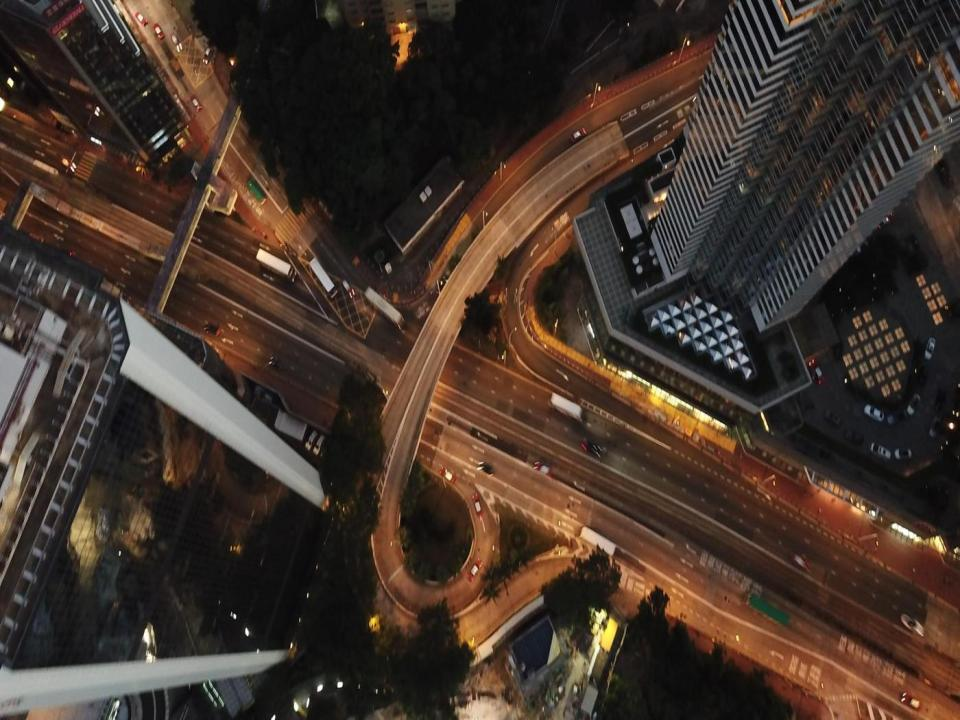bus: (742, 592, 789, 631), (578, 526, 616, 556), (547, 392, 583, 419)
car: (364, 286, 404, 330), (255, 248, 298, 282), (310, 257, 338, 297), (934, 154, 954, 188), (900, 613, 925, 637), (809, 359, 826, 385), (793, 553, 811, 574), (863, 404, 884, 422), (467, 558, 483, 581), (581, 439, 601, 456), (901, 692, 921, 709), (906, 394, 921, 415), (439, 466, 456, 484), (476, 461, 495, 477), (533, 462, 552, 478), (844, 429, 864, 444), (924, 337, 936, 360), (886, 410, 904, 425), (934, 389, 946, 410), (342, 279, 355, 298), (170, 32, 183, 51), (929, 415, 940, 437), (204, 323, 221, 336), (134, 11, 148, 26), (203, 45, 214, 64), (60, 157, 76, 170), (570, 128, 586, 141), (472, 493, 481, 516), (269, 357, 284, 370), (190, 95, 202, 111), (894, 448, 911, 459), (153, 22, 164, 38)
truck: (246, 180, 266, 204)
van: (870, 442, 891, 460), (824, 409, 842, 427), (304, 430, 318, 450), (314, 435, 324, 454)
